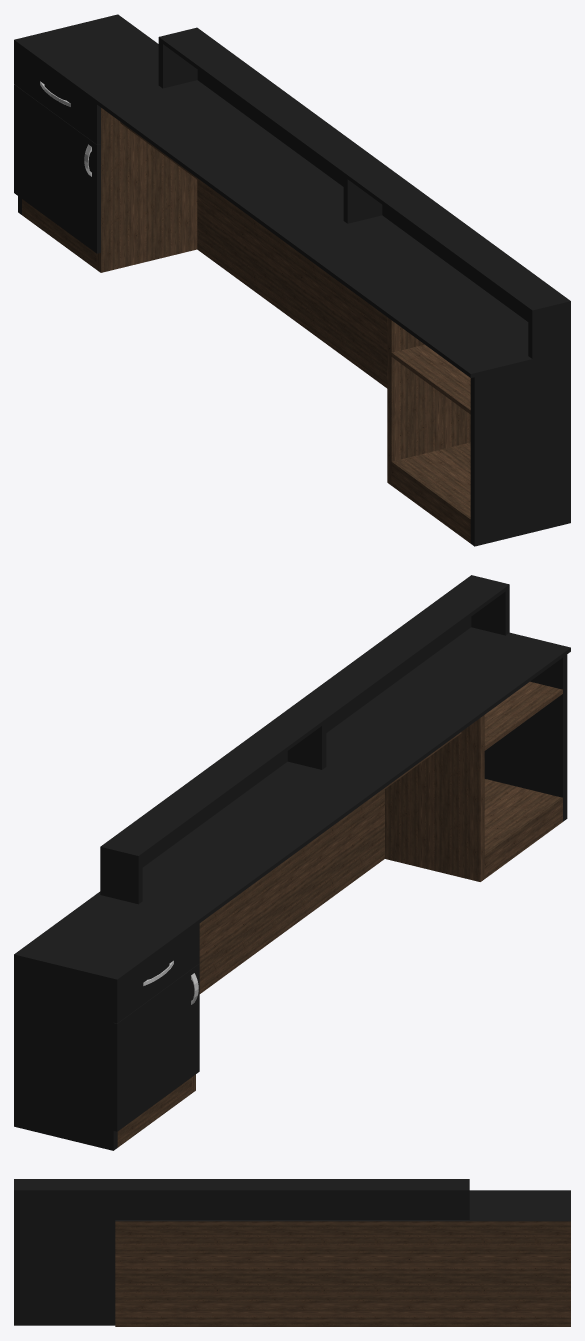
File: ReceptionDesk.glb
3 renders of one model, top to bottom at view 1: azimuth 30°, elevation 25°; view 2: azimuth 150°, elevation 25°; view 3: azimuth 270°, elevation 25°, orthographic. The views are drawn at different scales.
Visible parts, largest first — view 1: Cube.040; view 2: Cube.040; view 3: Cube.040.
Part boxes in pixels (x1=…): Cube.040: x1=14, y1=14, x2=570, y2=546; Cube.040: x1=14, y1=575, x2=570, y2=1150; Cube.040: x1=14, y1=1179, x2=570, y2=1326.
Bounding box in the file's own units: 0.5615 × 1.1 × 4.11.
3 materials, 2 textured.
